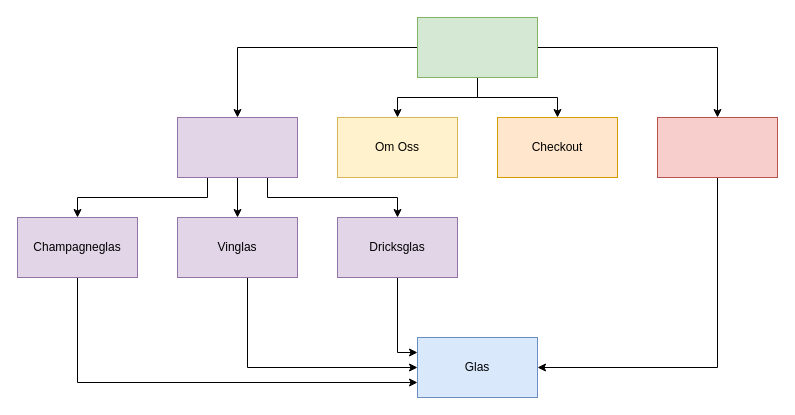
This 795x415 diagram has some shape labels left out. Here are the shapes that lost their labels. From the top down, the centre of each, then its label:
At point 477,47: "Home".
At point 237,147: "Category".
At point 717,147: "Search".
